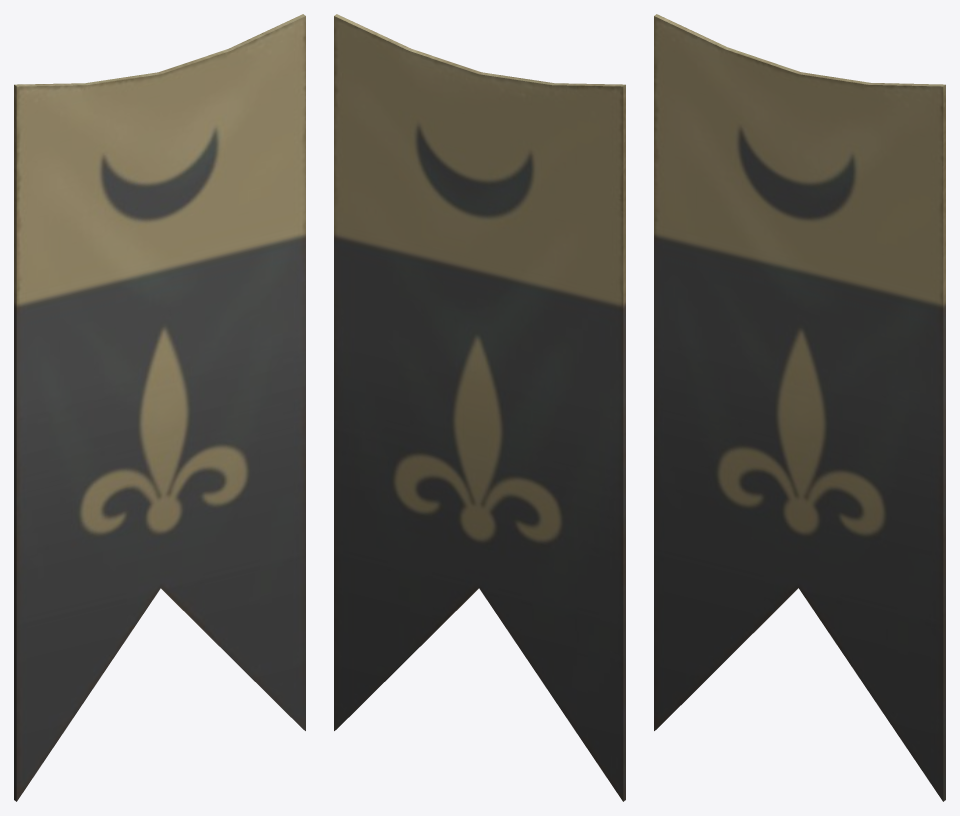
Rendered from SM_Stylized_Flag_Var2.glb.
3 renders of one model, left to right at view 1: azimuth 30°, elevation 25°; view 2: azimuth 150°, elevation 25°; view 3: azimuth 330°, elevation 25°, orthographic.
Parts seen in each view (by area): view 1: SM_Stylized_Flag_Var2; view 2: SM_Stylized_Flag_Var2; view 3: SM_Stylized_Flag_Var2.
Boxes of the visible parts, bbox=[...] form: SM_Stylized_Flag_Var2: bbox=[14, 14, 305, 801]; SM_Stylized_Flag_Var2: bbox=[334, 14, 625, 801]; SM_Stylized_Flag_Var2: bbox=[654, 14, 945, 801].
Size of the model in its own units: 0.8673 by 2.05 by 0.0141.
Materials: 1 (1 with a texture image).
